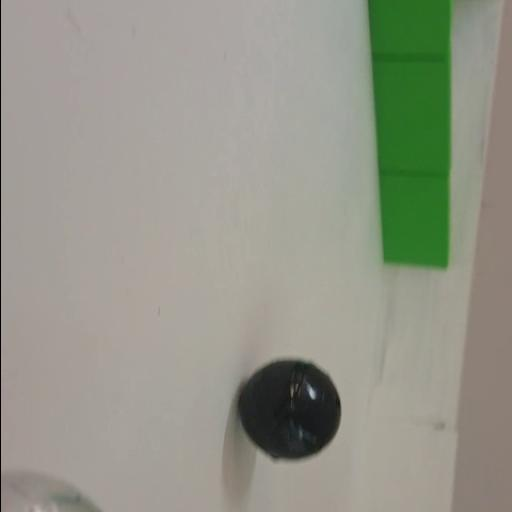alive: (0, 461, 106, 512)
dead: (234, 354, 348, 468)
